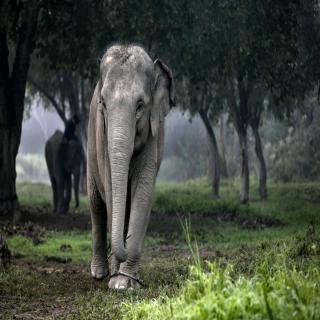Elephant: (84, 37, 179, 295)
